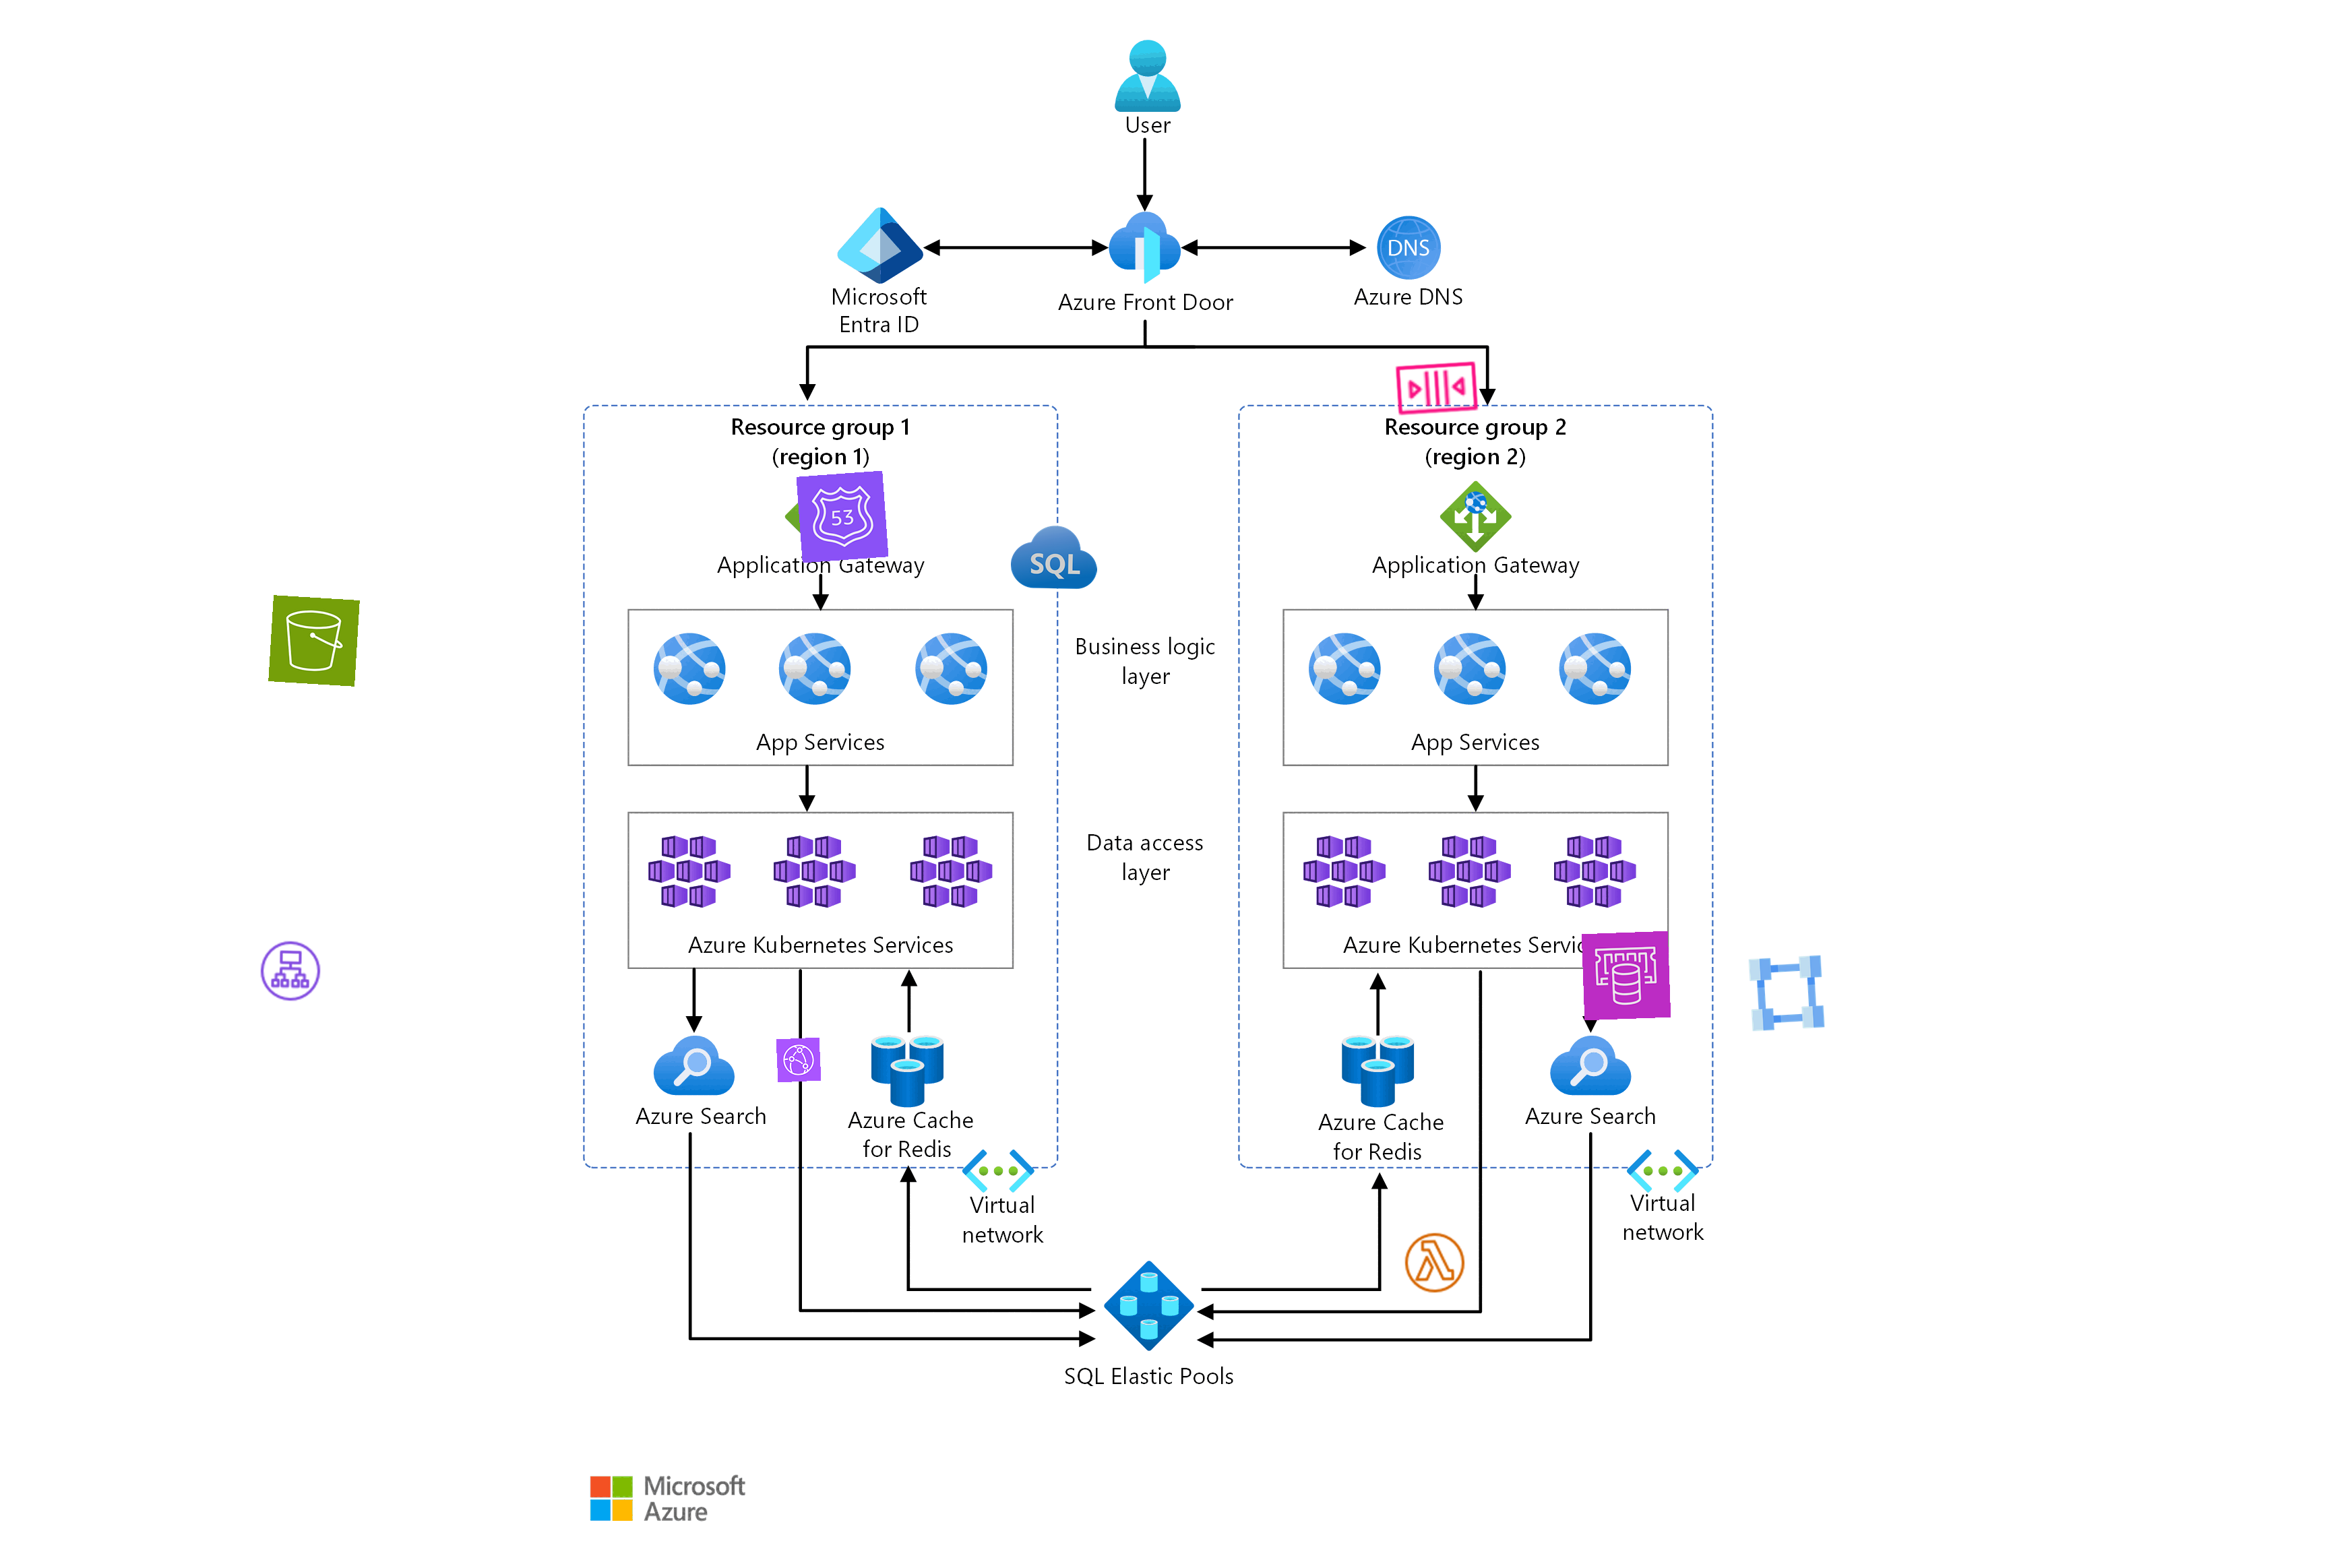aws_amazon_cloudfront: (775, 1038, 821, 1083)
aws_amazon_elasticache: (1580, 931, 1671, 1020)
aws_amazon_route_53: (796, 471, 889, 563)
aws_amazon_simple_storage_service: (268, 595, 360, 686)
aws_elastic_load_balancing_application_load_balancer: (257, 938, 324, 1004)
aws_lambda_lambda_function: (1402, 1229, 1468, 1297)
aws_simple_queue_service_queue: (1391, 341, 1482, 434)
azure_sql: (1010, 514, 1099, 604)
gcp_virtual_private_cloud: (1741, 947, 1832, 1040)
